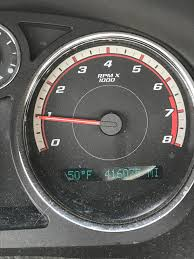Digital_Meter: (61, 164, 163, 184)
